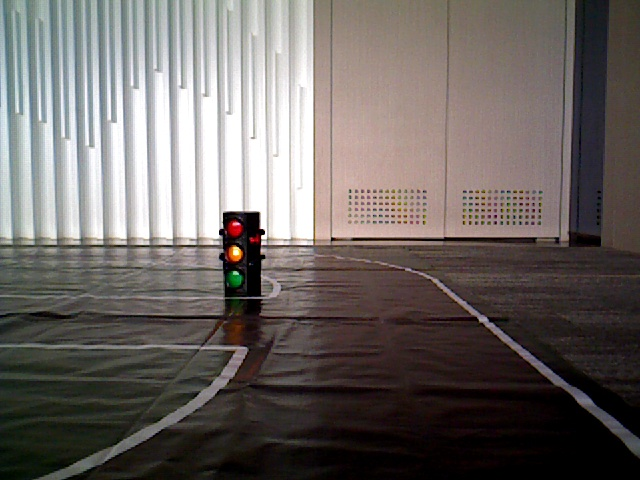yellow: (223, 212, 244, 288)
